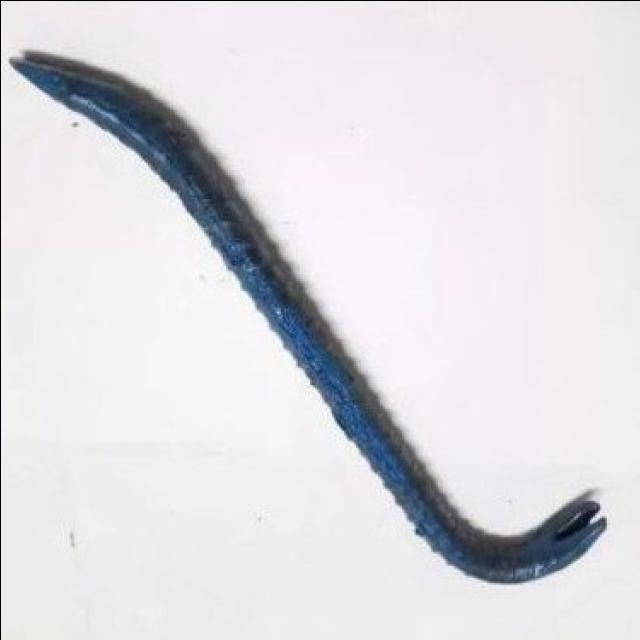Linggis: (11, 54, 607, 586)
